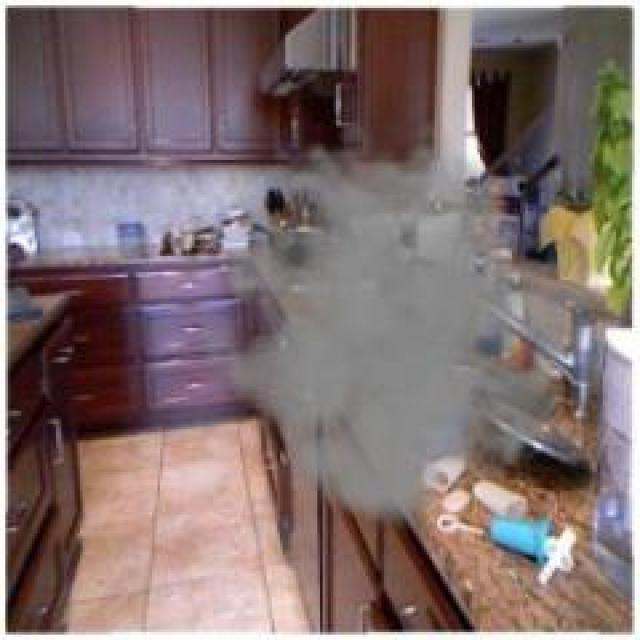smoke: (182, 116, 610, 535)
